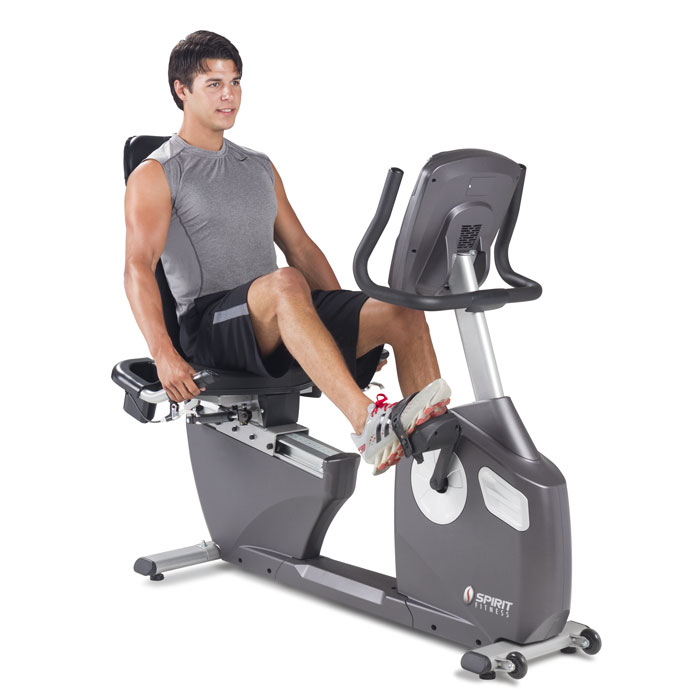gym_bike: (118, 142, 596, 670)
